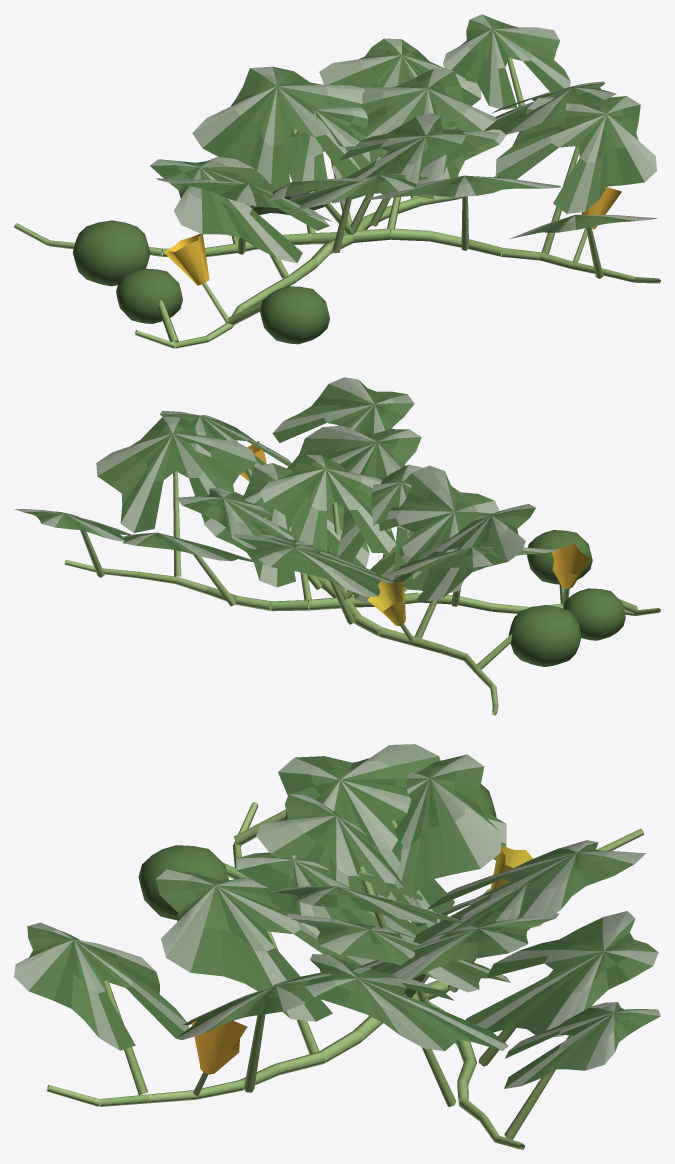
Rendered from courge_citrouille_fruits.glb.
3 renders of one model, top to bottom at view 1: azimuth 30°, elevation 25°; view 2: azimuth 150°, elevation 25°; view 3: azimuth 270°, elevation 25°, orthographic. The views are drawn at different scales.
Parts seen in each view (by area): view 1: Courge_Feuilles, Courge_Tiges, Courge_Fruits, Courge_Fleurs; view 2: Courge_Feuilles, Courge_Tiges, Courge_Fruits, Courge_Fleurs; view 3: Courge_Feuilles, Courge_Tiges, Courge_Fruits, Courge_Fleurs.
Part boxes in pixels (x1,y1,x2,y2): Courge_Feuilles: (150, 14, 657, 263); Courge_Tiges: (14, 57, 660, 348); Courge_Fruits: (72, 220, 329, 344); Courge_Fleurs: (164, 186, 621, 285); Courge_Feuilles: (14, 377, 558, 604); Courge_Tiges: (64, 424, 660, 715); Courge_Fruits: (508, 530, 625, 666); Courge_Fleurs: (240, 441, 590, 625); Courge_Feuilles: (14, 744, 660, 1088); Courge_Tiges: (46, 802, 644, 1149); Courge_Fruits: (138, 784, 496, 920); Courge_Fleurs: (191, 815, 533, 1074).
Size of the model in its own units: 1.37 by 0.2961 by 1.06.
